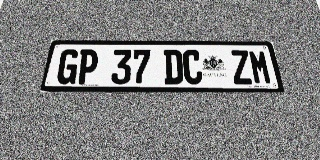3: (111, 49, 132, 84)
7: (131, 50, 150, 84)
C: (182, 50, 203, 84)
D: (164, 50, 183, 84)
G: (55, 49, 80, 84)
M: (248, 50, 273, 84)
P: (76, 49, 99, 84)
Z: (229, 50, 253, 84)
